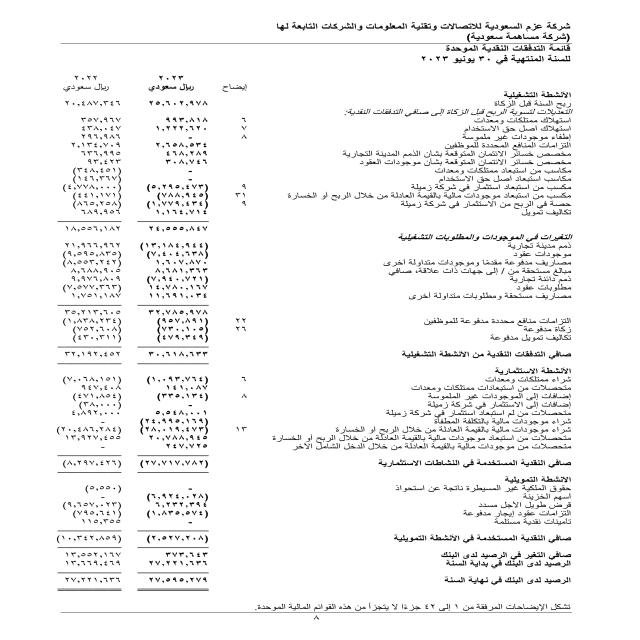financial_sheets: (435, 43, 575, 52)
table: (13, 59, 256, 603)
